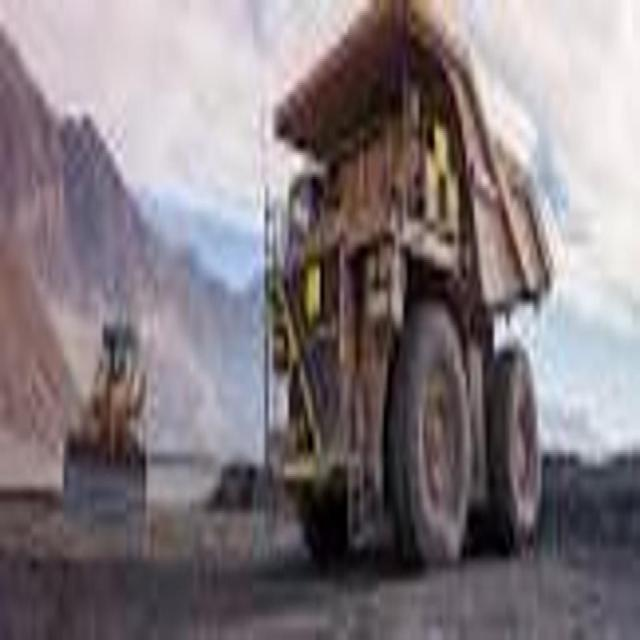dump_truck: (261, 0, 553, 609)
